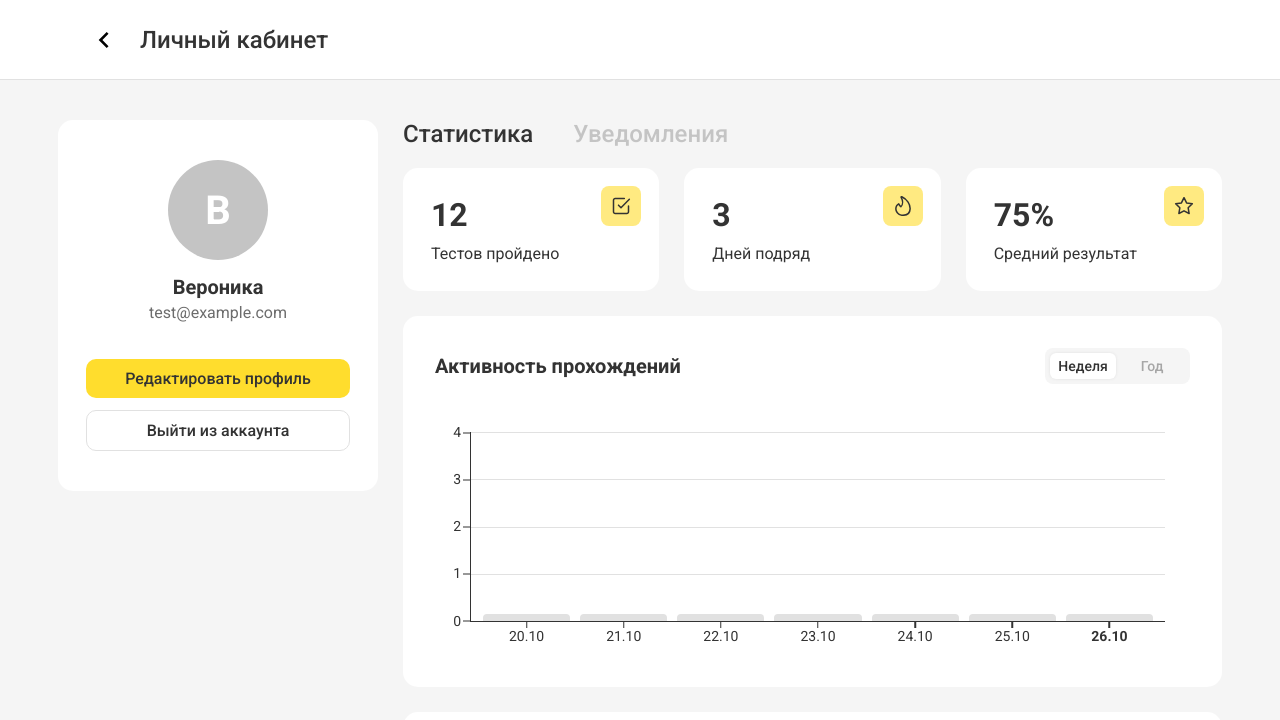
Test: ProfilePage › profile actions › closes edit modal on cancel without saving
Expected: the heading "Вероника" is shown, [173,275,263,299]
Click the button "Редактировать профиль" at [218, 378], box [86,359,350,398]
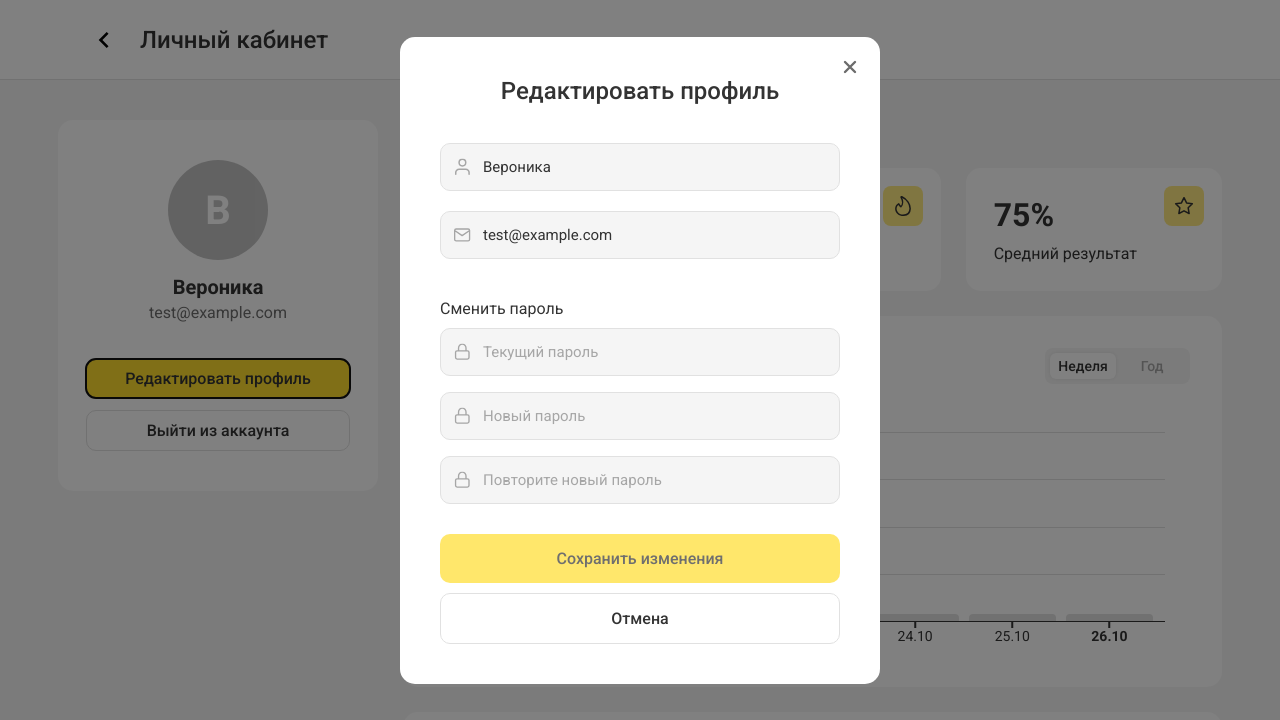
Click the button "Отмена" at [640, 618], box [440,592,840,644]
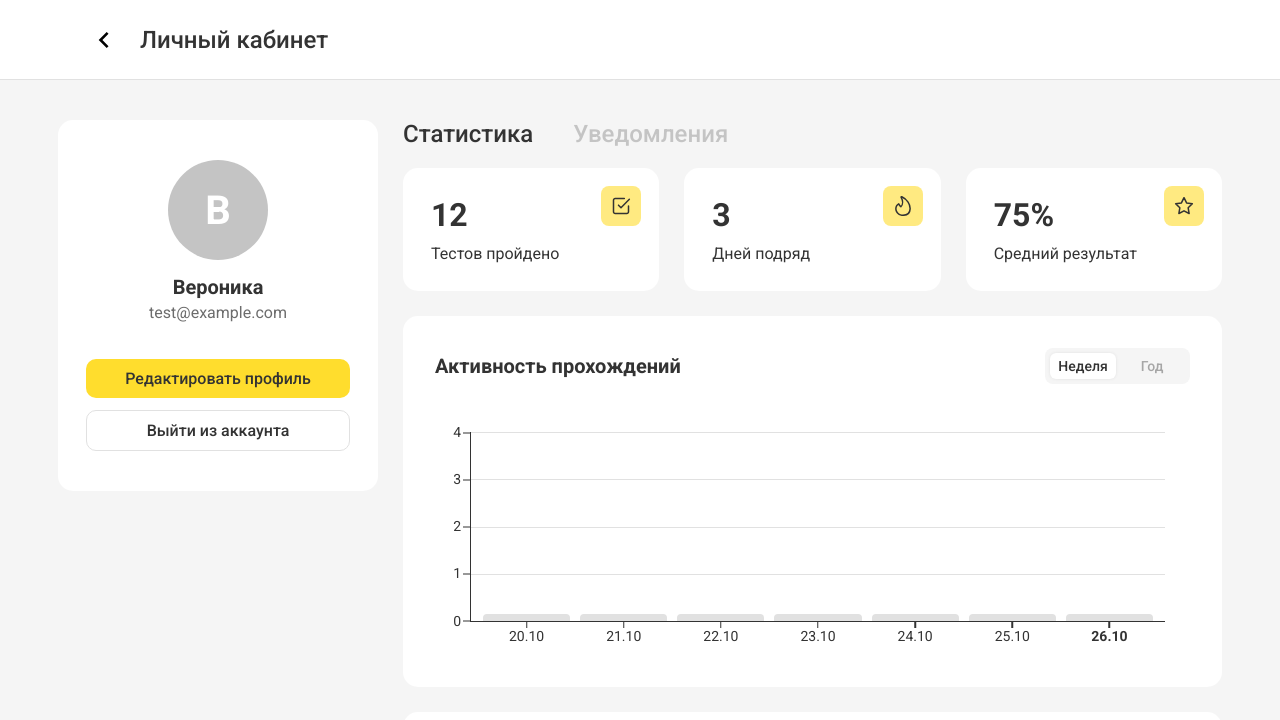
Result: the field with placeholder "Имя" is gone
